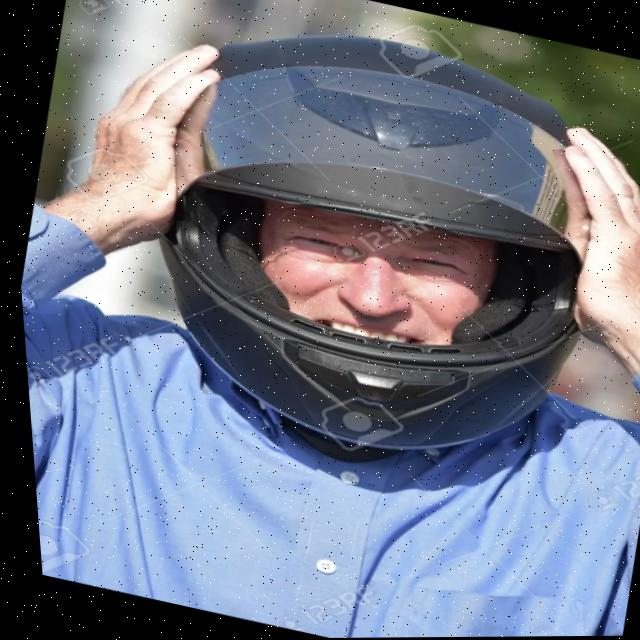helmet: (75, 0, 640, 510)
